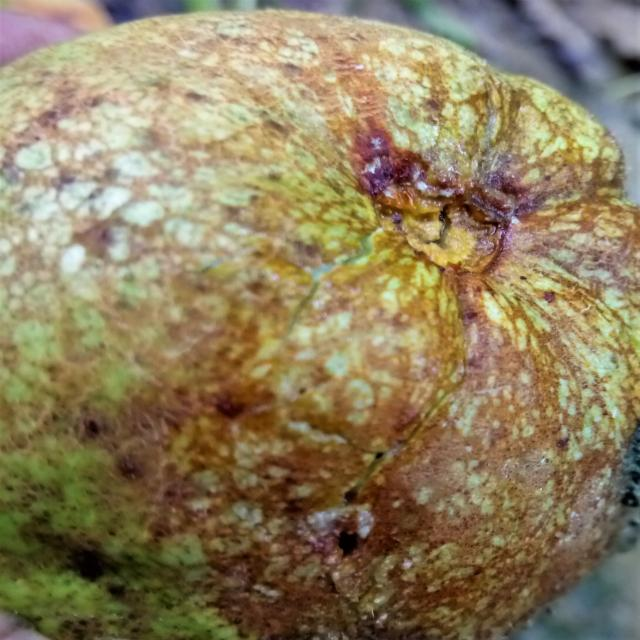Scab: (3, 12, 638, 640)
